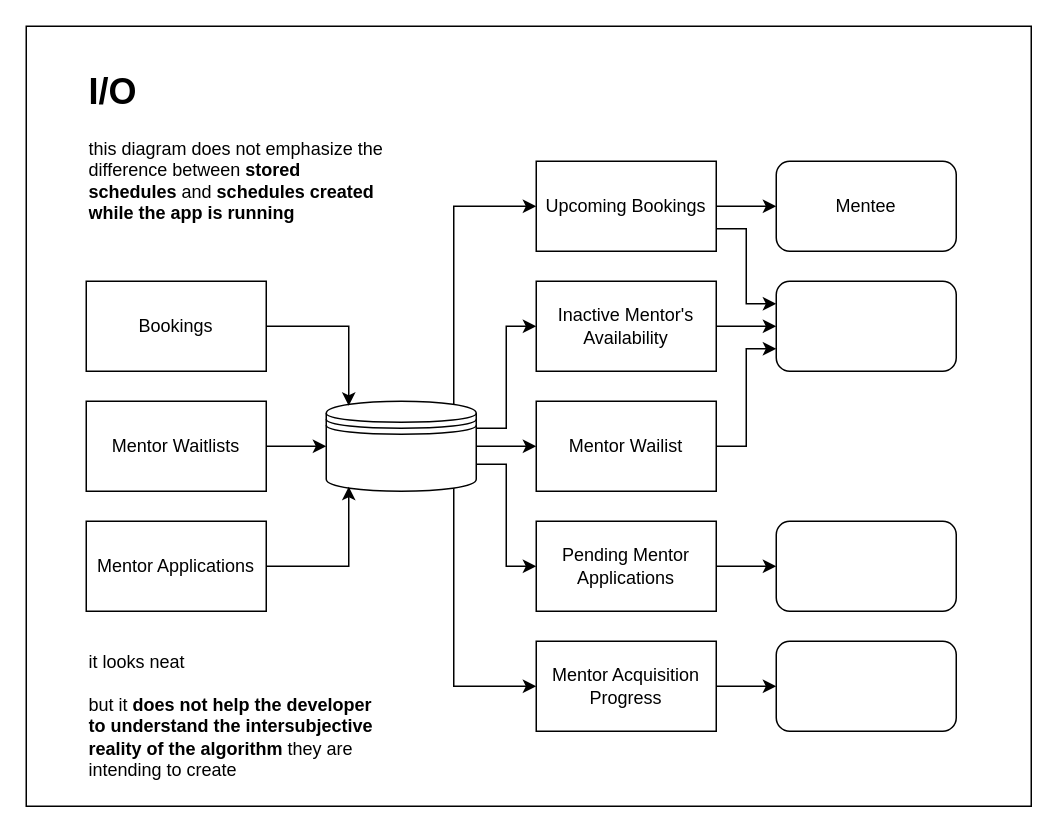
Some shapes in this 1058 by 833 pixel diagram are drawn without their labels. The centre of each missing label's shape, as x and y in pixels:
"Admin" belongs at point (865, 565).
"Cron Jobs" belongs at point (400, 445).
"Mentor" belongs at point (865, 325).
"Prospective Mentor" belongs at point (865, 685).
